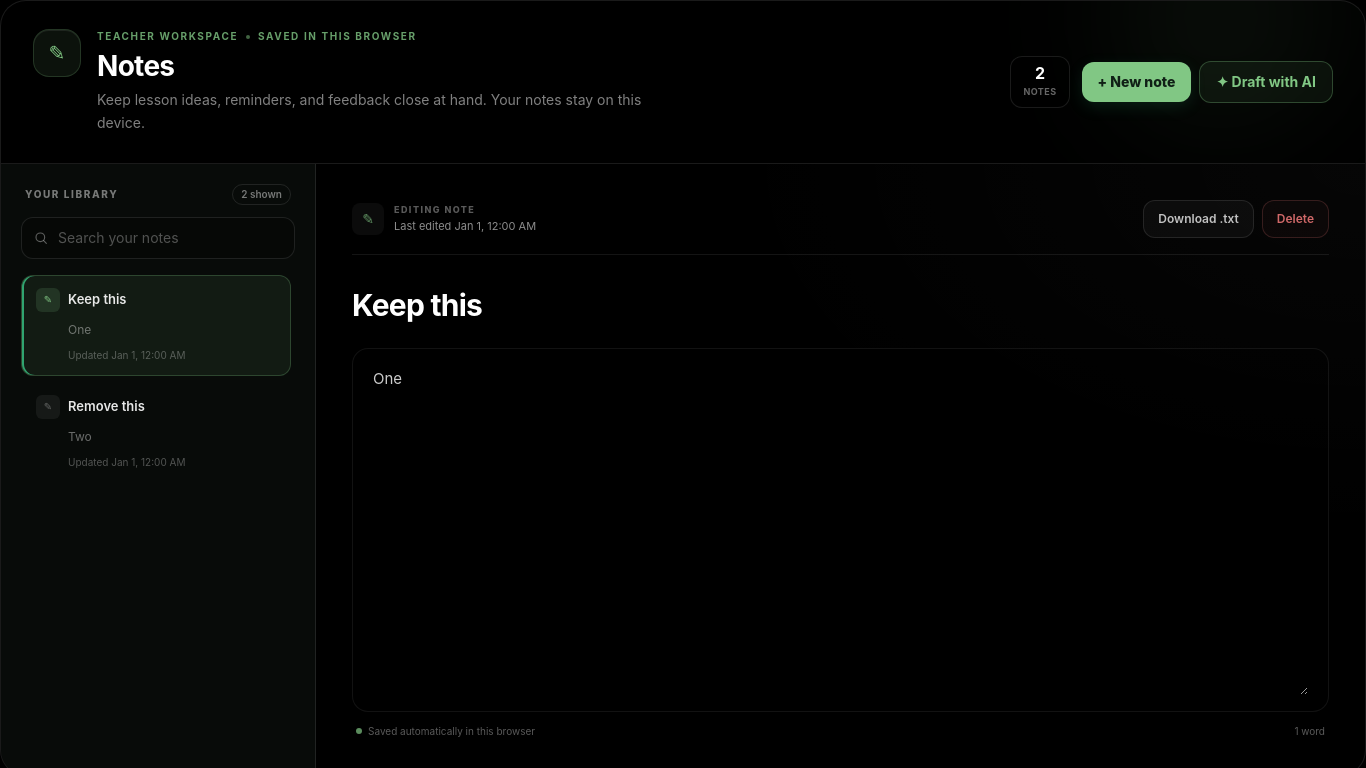
Test: Notes user workflows › deletes the selected note only after confirmation
What coordinates should you click on to do the following:
click the button "✎ Remove this Two Updated Jan 1, 12:00 AM"
I would click on:
 (106, 406)
Its box is [21, 382, 291, 483].
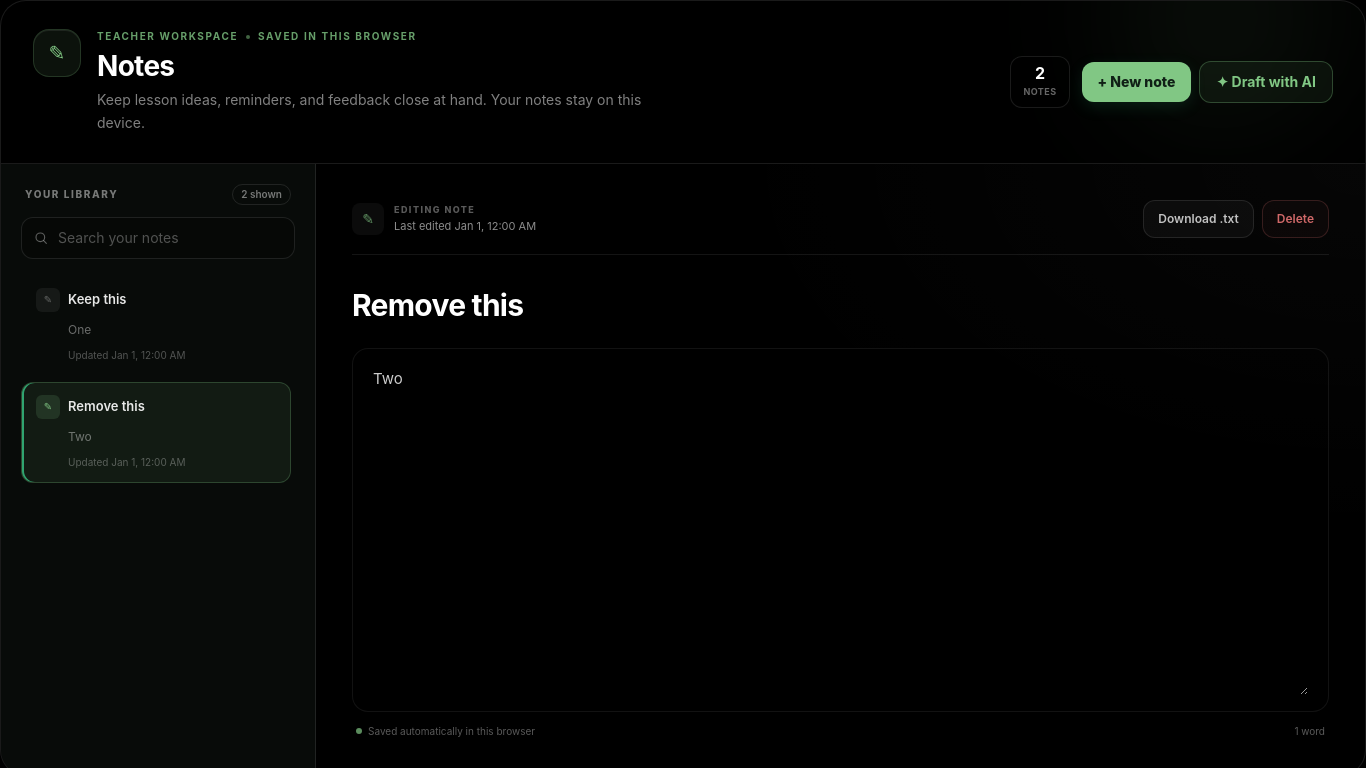
What coordinates should you click on to do the following:
click the button "Delete"
I would click on:
 (1295, 219)
Its box is [1262, 200, 1329, 238].
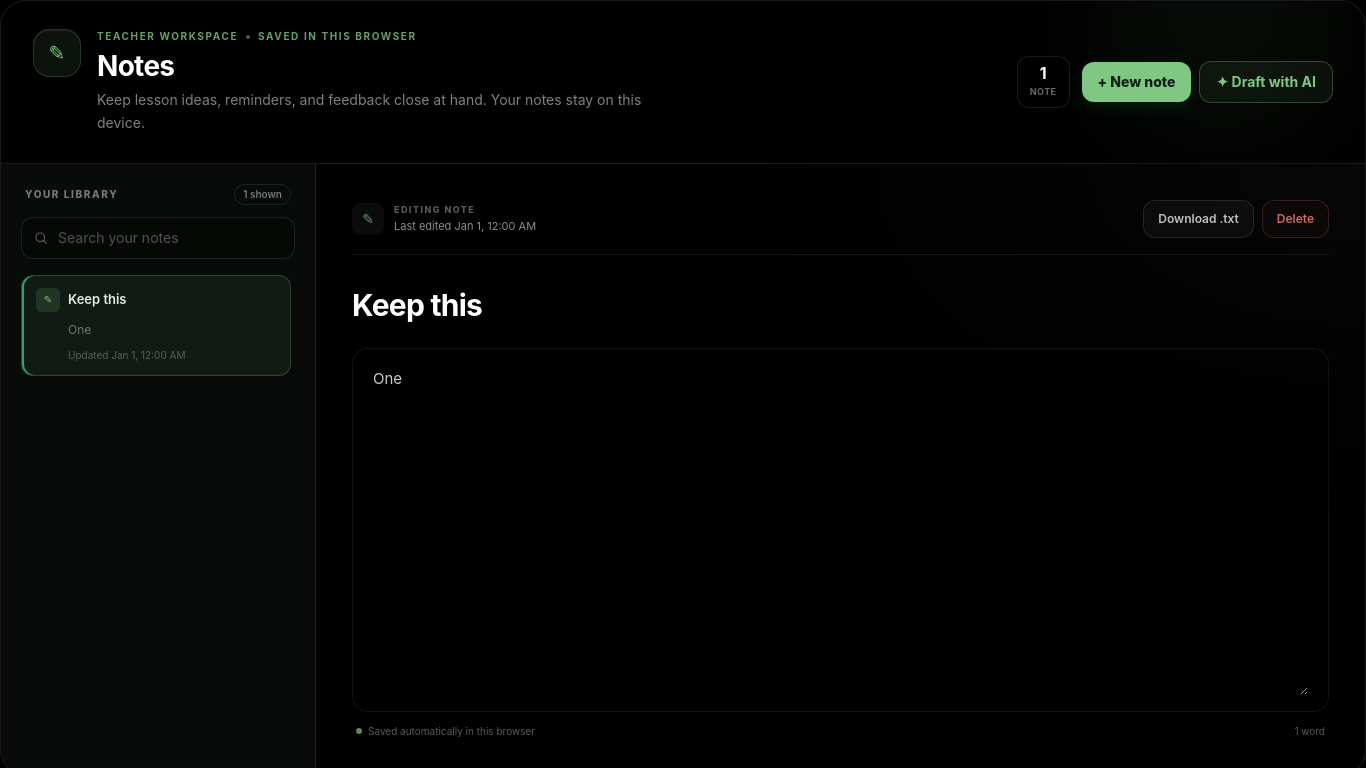
Expected: the button "✎ Keep this One Updated Jan 1, 12:00 AM" is shown, [21, 275, 291, 376]
Expected: the button "Remove this" is gone
